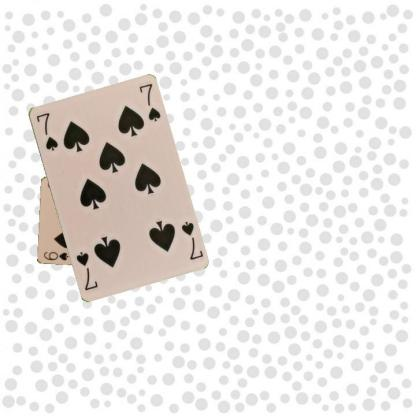6s: (41, 249, 69, 262)
7s: (178, 218, 204, 262), (33, 110, 59, 152)
